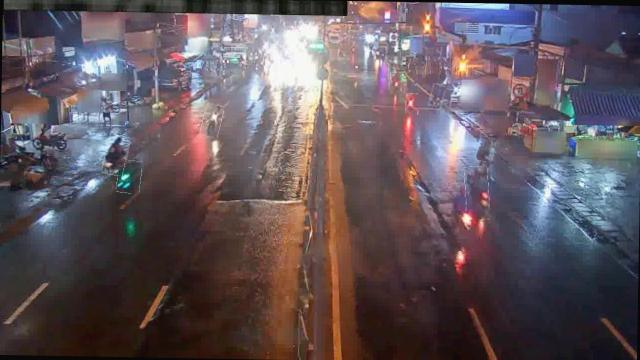Bike: (465, 166, 491, 220), (104, 134, 130, 175), (117, 160, 143, 193), (201, 103, 223, 137), (478, 136, 496, 162), (430, 84, 444, 106), (406, 93, 419, 114), (389, 72, 402, 91)
